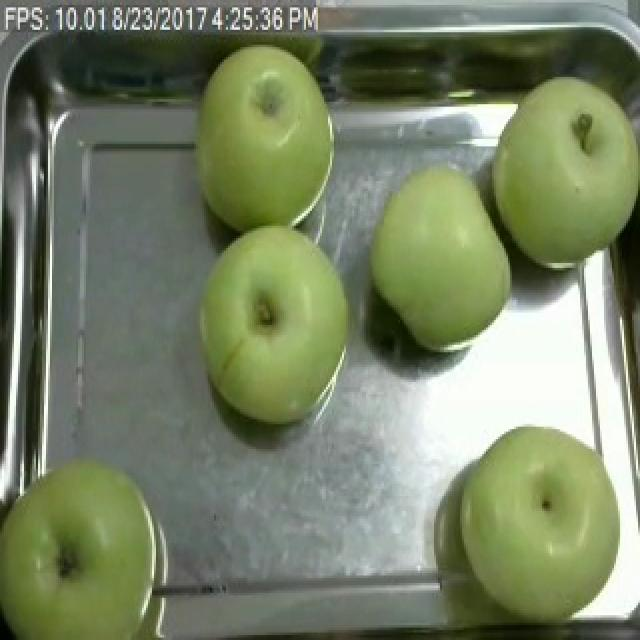50-_ripeness: (452, 416, 632, 640), (476, 57, 640, 288), (192, 230, 351, 434), (367, 163, 530, 357), (0, 454, 170, 637), (192, 34, 336, 230)
